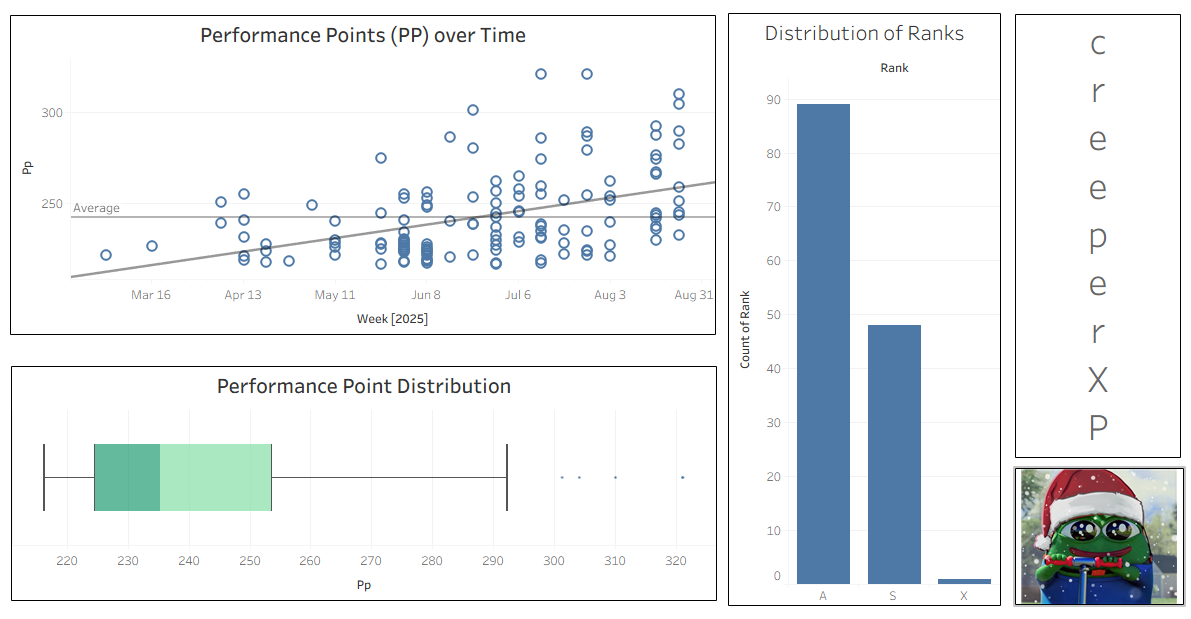

The dashboard page shown, as its layout file describes it:
{"tool":"tableau","page":{"name":"Dashboard 1","canvas":[1000,1000],"units":"permille","ordinal":0},"visuals":[{"type":"worksheet","title":"Sheet 2","mark":"Automatic","rows":["rank"],"cols":["rank"],"box":[598.9,44.1,222.1,902.6]},{"type":"text","box":[832.4,45.7,135.1,675.8]},{"type":"worksheet","title":"Line (points over time)","mark":"Automatic","rows":["pp"],"cols":["score_time"],"box":[14.7,47.2,574.5,487.1]},{"type":"worksheet","title":"Sheet 3","mark":"Circle","cols":["pp"],"box":[15.5,581.4,574.5,357.7]},{"type":"image","param":"C:/Users/natha/Downloads/SS/winterpfp.png","box":[832.4,736.7,137.5,208.5]}]}

Visuals, with their boxes on the dashboard's canvas, which has no fixed pixel size, in thousandths of its width and height (x1, y1, x2, y2). These are canvas units, not pixel positions in the 1191x619 screenshot, which may show the page scaled, cropped or inside an application window:
"Sheet 2" worksheet: box(599, 44, 821, 947)
text: box(832, 46, 968, 722)
"Line (points over time)" worksheet: box(15, 47, 589, 534)
"Sheet 3" worksheet (Circle marks): box(16, 581, 590, 939)
image: box(832, 737, 970, 945)
